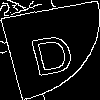D: (25, 24, 77, 77)
